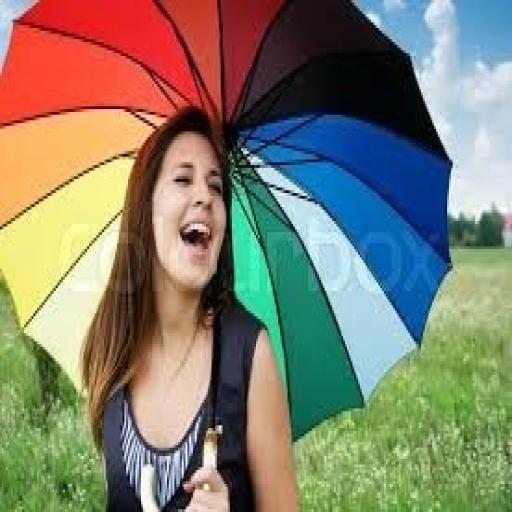laughing: (72, 95, 304, 507)
